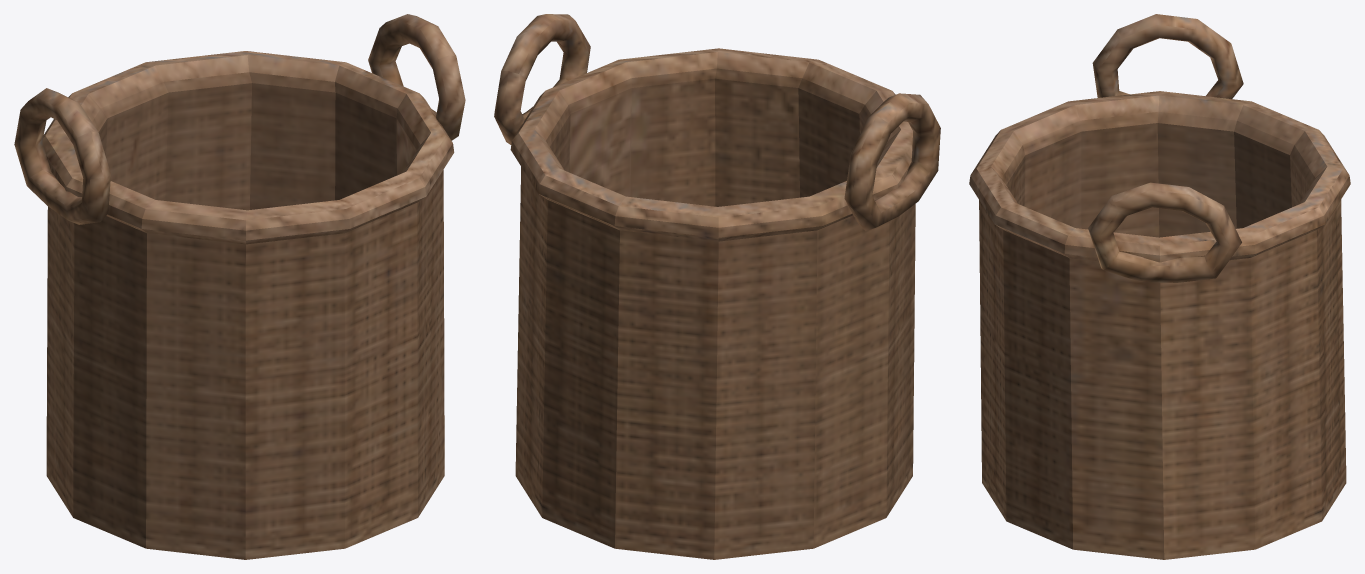
The model's file is Basket_00.fbx.
3 renders of one model, left to right at view 1: azimuth 30°, elevation 25°; view 2: azimuth 150°, elevation 25°; view 3: azimuth 270°, elevation 25°, orthographic. The views are drawn at different scales.
Visible parts, largest first — view 1: Basket_00_Low; view 2: Basket_00_Low; view 3: Basket_00_Low.
Boxes of the visible parts, x1,y1,x2,y2 form: Basket_00_Low: (14,14,465,559); Basket_00_Low: (494,14,940,559); Basket_00_Low: (969,14,1350,559).
Size of the model in its own units: 0.4783 by 0.5105 by 0.4547.
